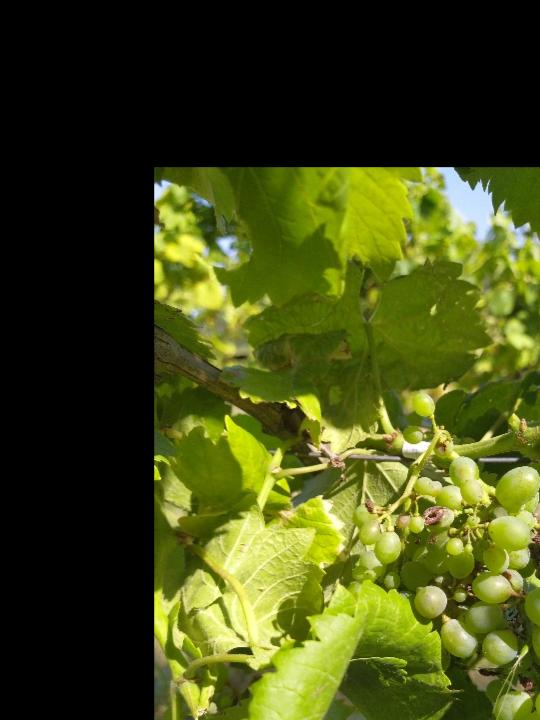grape: (352, 392, 540, 720)
